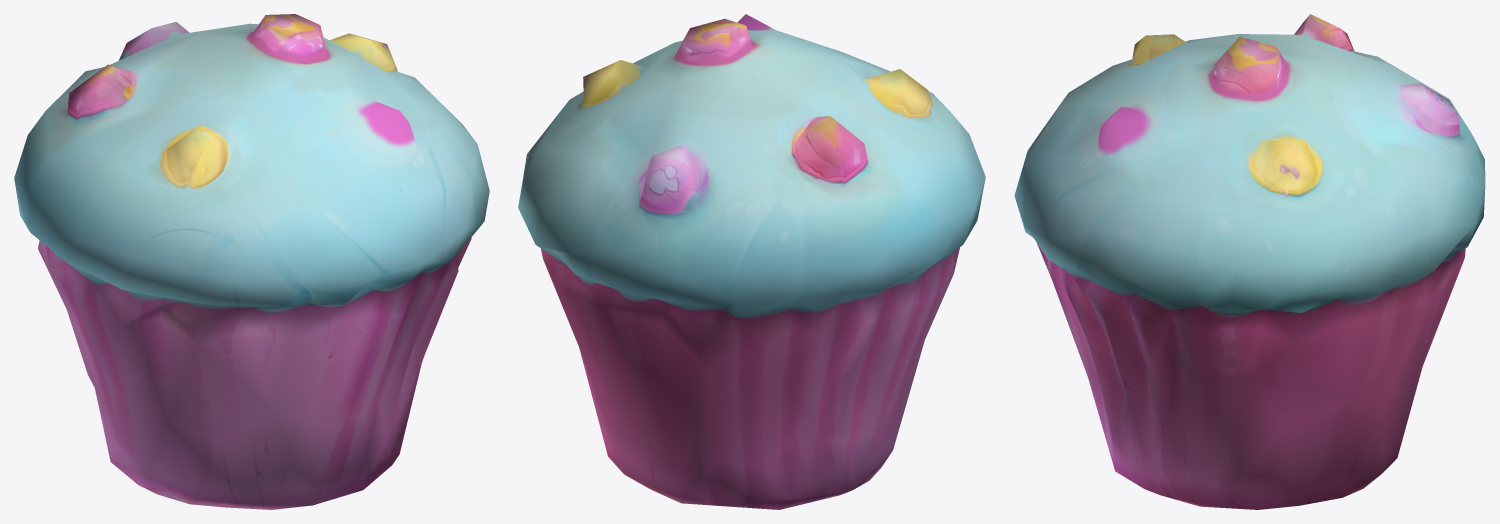
The model's file is cupcake_Mesh.fbx.
3 views of the same model, side by side, from view 1: azimuth 30°, elevation 25°; view 2: azimuth 150°, elevation 25°; view 3: azimuth 270°, elevation 25° (orthographic).
Parts seen in each view (by area): view 1: cupcake; view 2: cupcake; view 3: cupcake.
Boxes of the visible parts, <box> form: cupcake: <box>14,14,489,509</box>; cupcake: <box>518,14,985,509</box>; cupcake: <box>1014,14,1485,509</box>.
Bounding box in the file's own units: 119 × 120 × 120.
